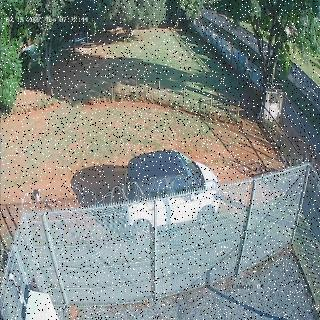car: (123, 149, 221, 243)
